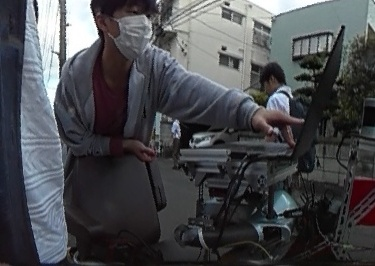person: (55, 0, 238, 153), (243, 63, 309, 142), (166, 111, 183, 169)
